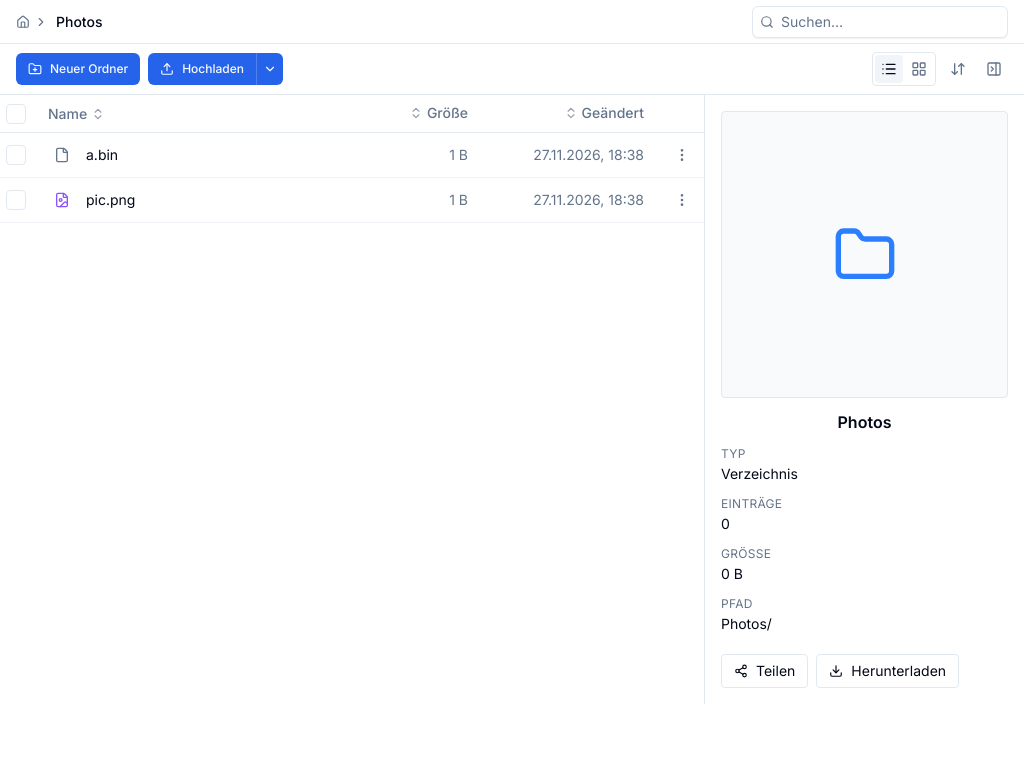
Test: FilesPage — Vorschau › Menüpunkt-Beschriftung passt zum Typ: Bild=Anzeigen, ZIP=ohne
The image size is (1024, 768).
Expected: the text "pic.png" is shown, [86,190,135,210]
Click the button named "Aktionen" in the row of "pic.png" at [682, 200], box [668,186,696,214]
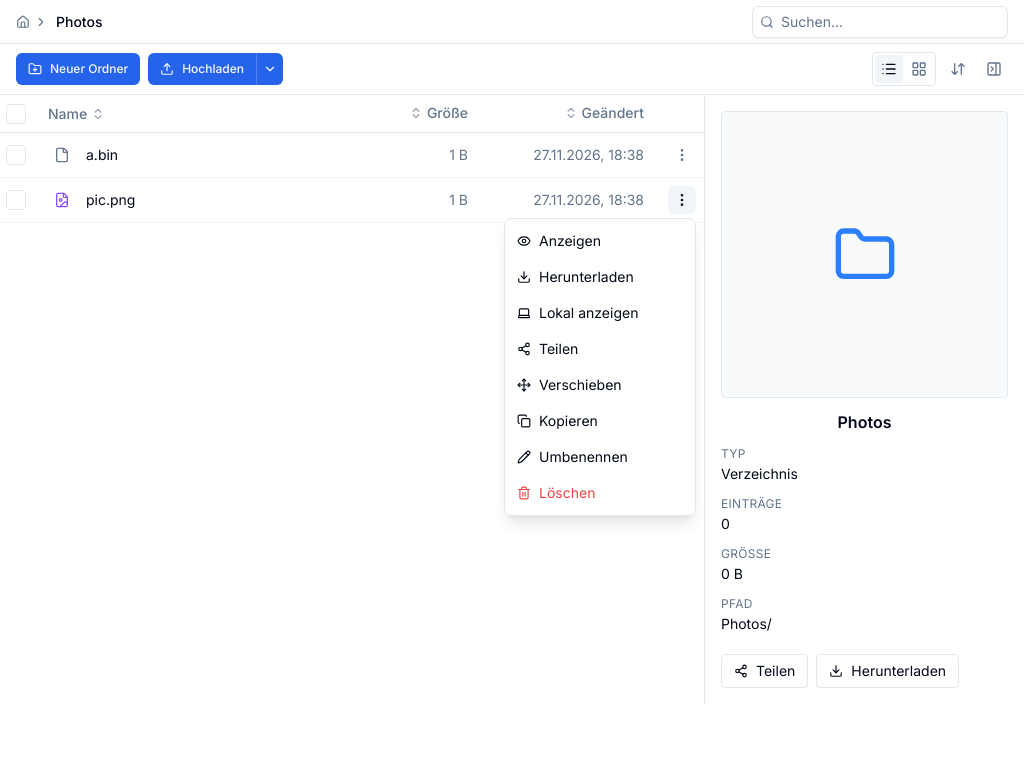
Result: the menu item "Anzeigen" is shown at [505,223,695,259]
Press Escape
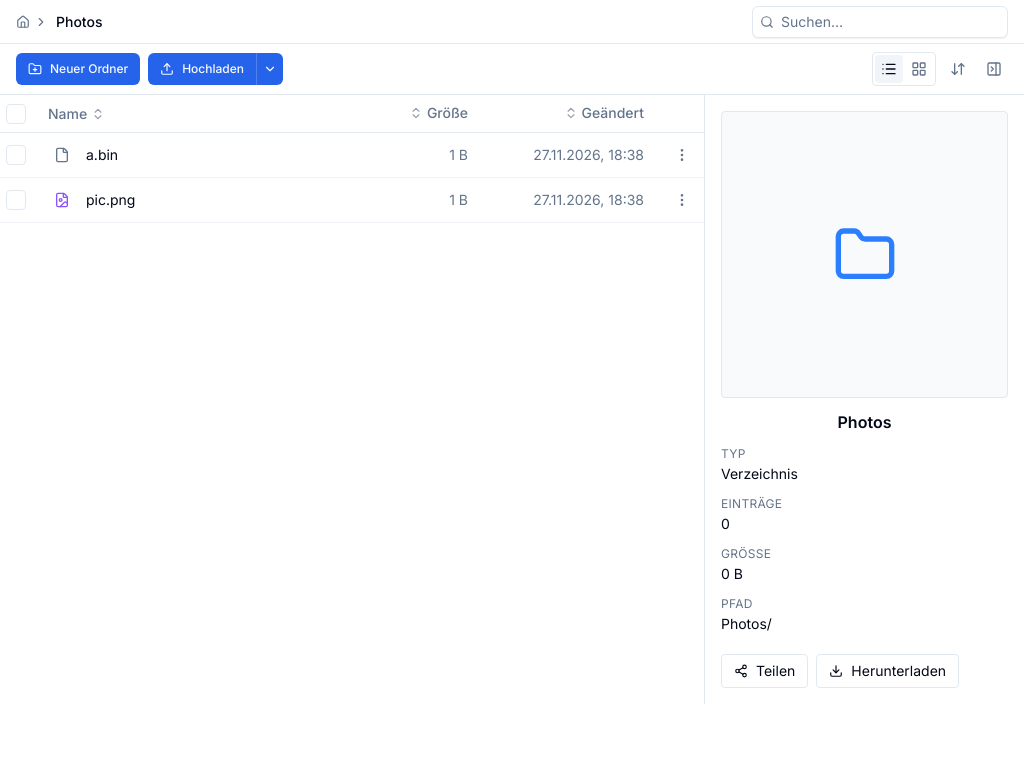
Click the button named "Aktionen" in the row of "a.bin" at [682, 155], box [668,141,696,169]
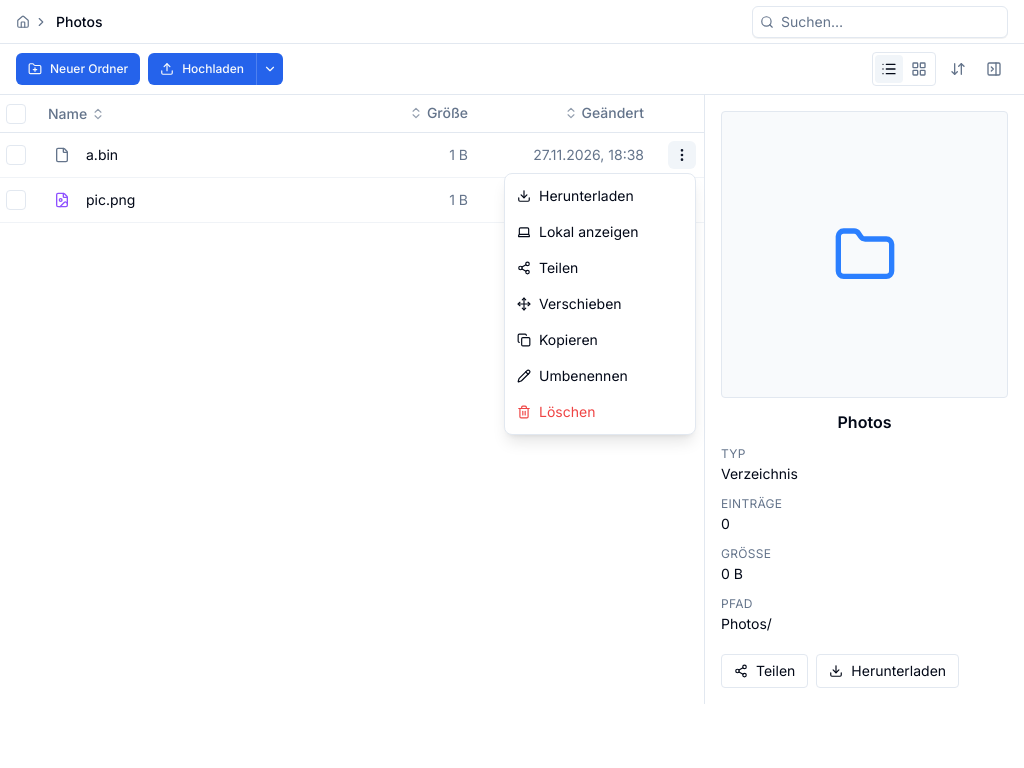
Result: the menu item "Herunterladen" is shown at [505,178,695,214]
